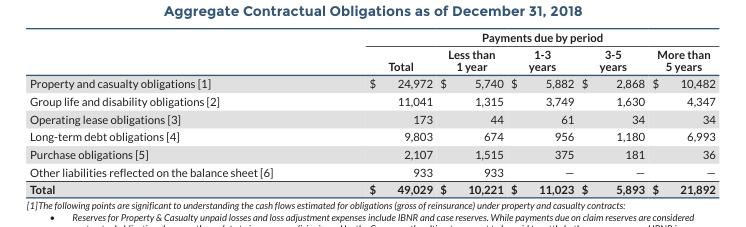table: (28, 29, 714, 195)
table column: (28, 29, 320, 195), (320, 29, 435, 195), (435, 29, 506, 195), (506, 29, 577, 195), (577, 29, 647, 195), (647, 29, 714, 195)
table column header: (28, 29, 714, 74)
table row: (28, 45, 714, 74), (28, 91, 714, 109), (28, 109, 714, 127), (28, 144, 714, 162), (28, 162, 714, 180), (28, 74, 714, 91), (28, 127, 714, 144), (28, 29, 714, 45), (28, 180, 714, 195)
table spanning cell: (320, 29, 714, 45)
